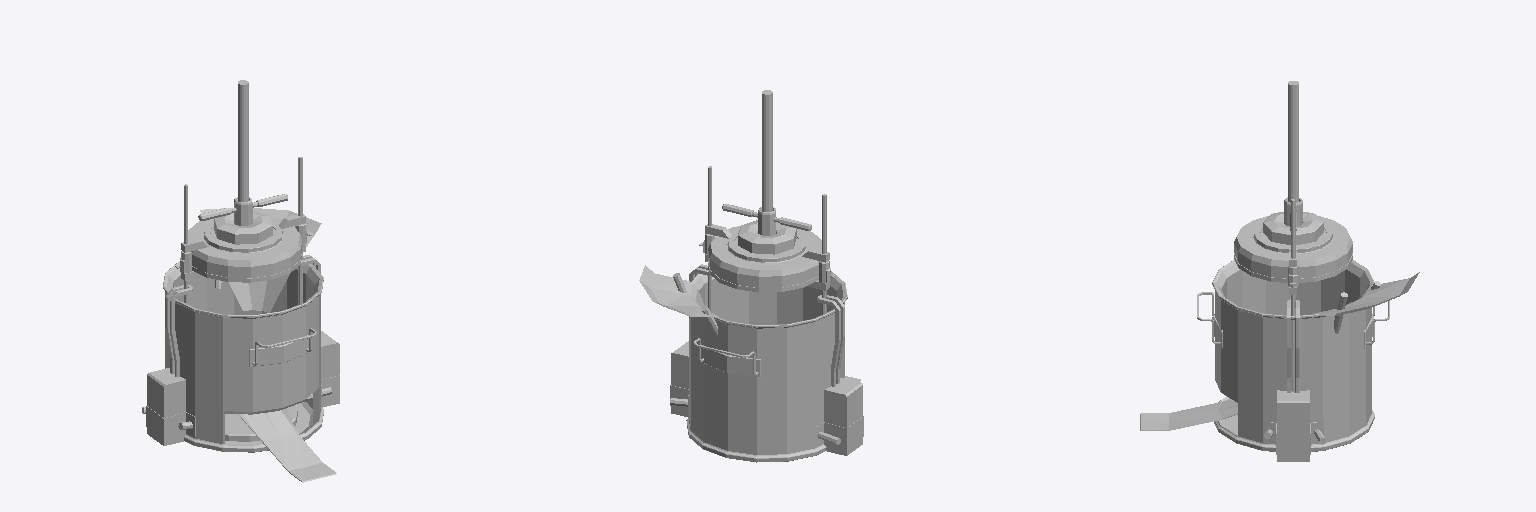
The model's file is PillPress_Junkyard.obj.
3 views of the same model, side by side, from view 1: azimuth 30°, elevation 25°; view 2: azimuth 150°, elevation 25°; view 3: azimuth 270°, elevation 25° (orthographic).
Visible parts, largest first — view 1: PressContainer_Cube.004, ClampHolders_Cube.014, PressMaster_Cube.007, Rotator_Cylinder.001, Presser_Cube.011; view 2: PressContainer_Cube.004, ClampHolders_Cube.014, PressMaster_Cube.007, Rotator_Cylinder.001, Presser_Cube.011; view 3: PressContainer_Cube.004, PressMaster_Cube.007, ClampHolders_Cube.014, Rotator_Cylinder.001, Presser_Cube.011.
Boxes of the visible parts, x1,y1,x2,y2 form: PressContainer_Cube.004: [163, 208, 336, 482]; ClampHolders_Cube.014: [142, 157, 339, 445]; PressMaster_Cube.007: [188, 216, 301, 282]; Rotator_Cylinder.001: [198, 194, 287, 244]; Presser_Cube.011: [238, 80, 248, 201]; PressContainer_Cube.004: [639, 265, 860, 462]; ClampHolders_Cube.014: [670, 166, 863, 455]; PressMaster_Cube.007: [708, 226, 821, 292]; Rotator_Cylinder.001: [722, 204, 811, 254]; Presser_Cube.011: [762, 90, 772, 211]; PressContainer_Cube.004: [1140, 260, 1419, 451]; PressMaster_Cube.007: [1234, 216, 1352, 282]; ClampHolders_Cube.014: [1263, 199, 1325, 461]; Rotator_Cylinder.001: [1263, 197, 1323, 244]; Presser_Cube.011: [1288, 81, 1298, 202].
Bounding box in the file's own units: 2.86 × 4.93 × 3.68.